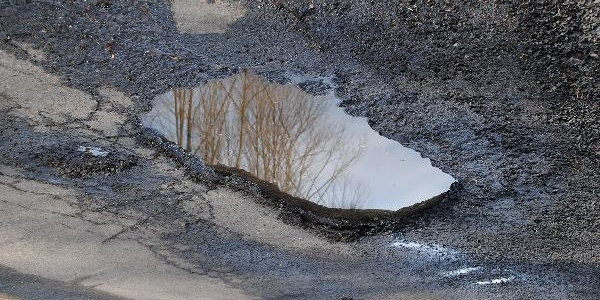pothole: (128, 67, 466, 247), (19, 141, 138, 182)
